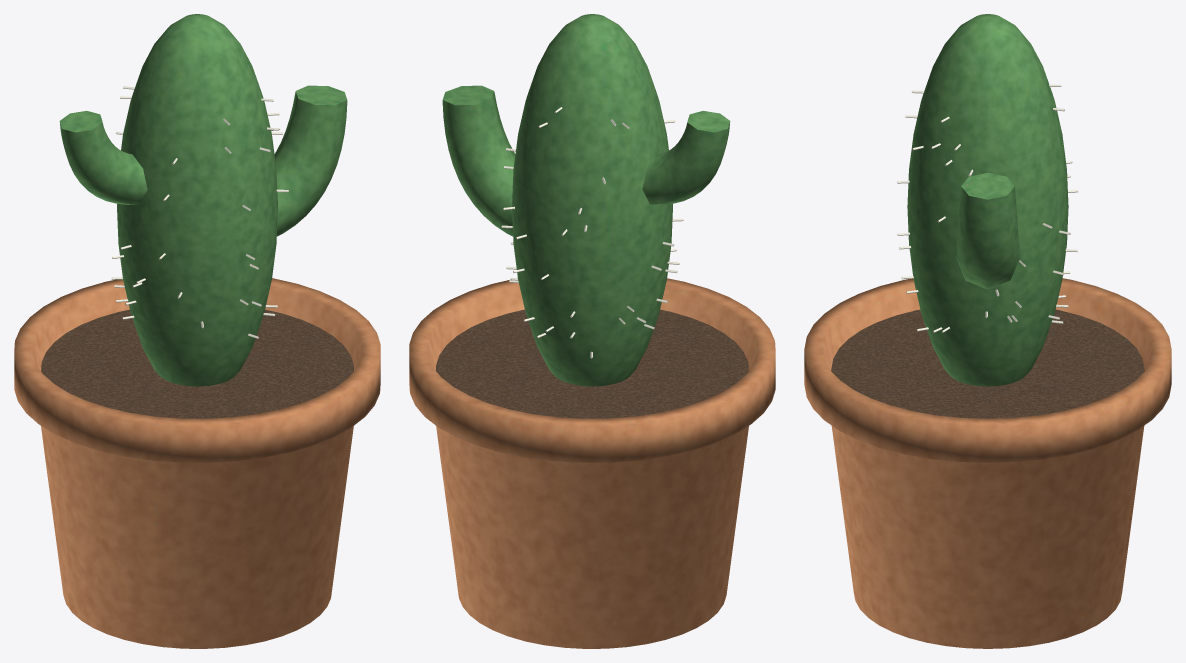
Rendered from pot_cactus.glb.
The picture shows the model from 3 angles, left to right: view 1: azimuth 30°, elevation 25°; view 2: azimuth 150°, elevation 25°; view 3: azimuth 270°, elevation 25°; orthographic projection.
Parts seen in each view (by area): view 1: pot_cactus; view 2: pot_cactus; view 3: pot_cactus.
Boxes of the visible parts, left/top/right/bottom form: pot_cactus: left=14, top=14, right=380, bottom=648; pot_cactus: left=409, top=14, right=775, bottom=648; pot_cactus: left=804, top=14, right=1171, bottom=648.
Size of the model in its own units: 8.2 by 14.18 by 8.2.
1 material, 1 textured.
